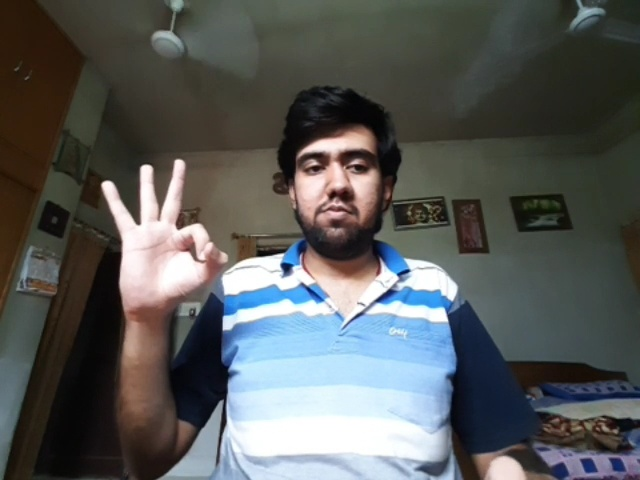Nice: (101, 159, 228, 307)
